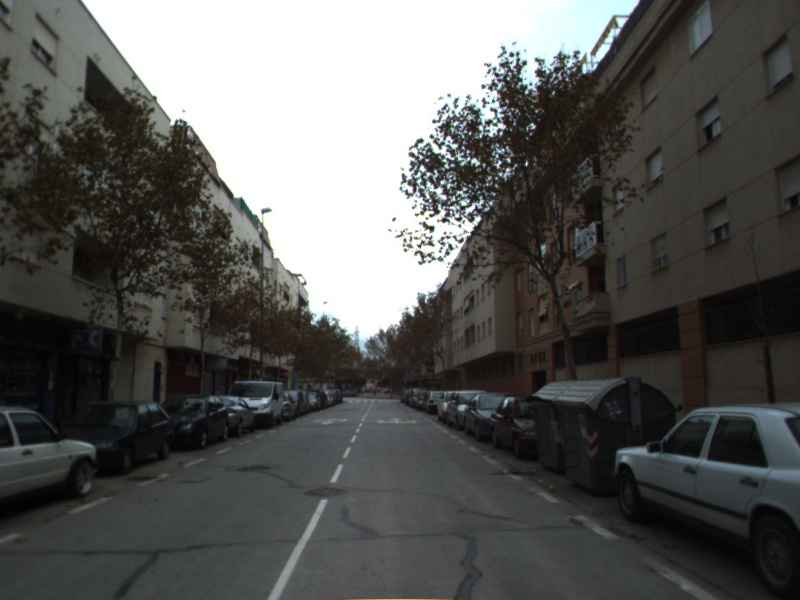STRAIGHT_LEFT_RIGHT: (374, 415, 420, 427)
